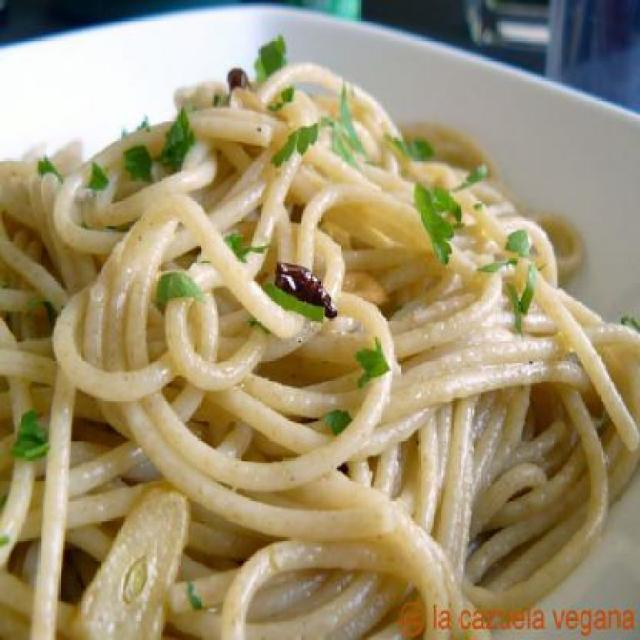Oil pasta: (38, 60, 640, 574)
